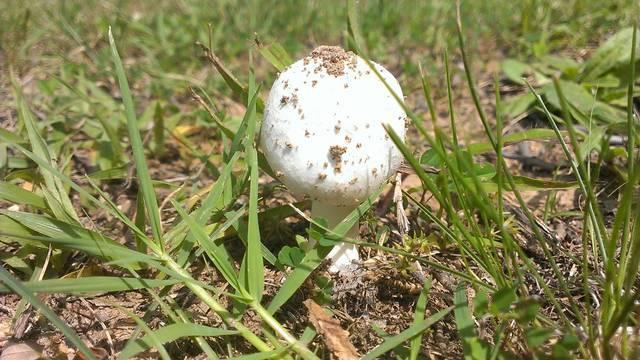poisonous_mushroom: (257, 44, 408, 273)
